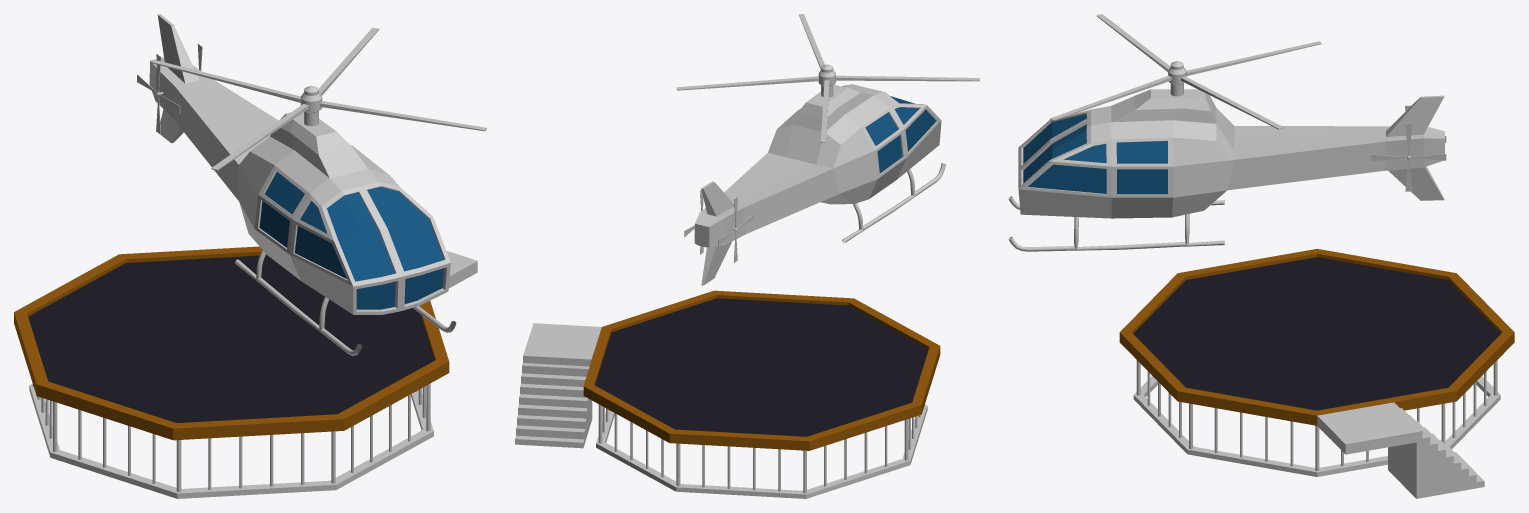
File: copter_000017.obj
3 views of the same model, side by side, from view 1: azimuth 30°, elevation 25°; view 2: azimuth 150°, elevation 25°; view 3: azimuth 270°, elevation 25° (orthographic). The views are drawn at different scales.
Parts seen in each view (by area): view 1: Cylinder.001_Cylinder.012, Helicopter.007_Cylinder.008, Helicopter.001_Cylinder.001, Cylinder.004, Cylinder.003_Cylinder.005, Cylinder.002; view 2: Cylinder.001_Cylinder.012, Helicopter.007_Cylinder.008, Helicopter.001_Cylinder.001, Cylinder.004, Cylinder.003_Cylinder.005, Cylinder.002; view 3: Cylinder.001_Cylinder.012, Helicopter.007_Cylinder.008, Helicopter.001_Cylinder.001, Cylinder.004, Cylinder.002, Cylinder.003_Cylinder.005, Helicopter.003_Cylinder.004.
Part boxes in pixels (box(x1,y1,x2,y2)): Cylinder.001_Cylinder.012: box(14, 246, 477, 498); Helicopter.007_Cylinder.008: box(149, 14, 456, 355); Helicopter.001_Cylinder.001: box(151, 27, 486, 170); Cylinder.004: box(208, 394, 410, 490); Cylinder.003_Cylinder.005: box(37, 386, 425, 483); Cylinder.002: box(32, 383, 430, 492); Cylinder.001_Cylinder.012: box(515, 290, 940, 498); Helicopter.007_Cylinder.008: box(694, 84, 945, 285); Helicopter.001_Cylinder.001: box(676, 14, 979, 142); Cylinder.004: box(614, 413, 780, 491); Cylinder.003_Cylinder.005: box(602, 406, 920, 486); Cylinder.002: box(598, 404, 924, 493); Cylinder.001_Cylinder.012: box(1119, 248, 1514, 498); Helicopter.007_Cylinder.008: box(1008, 89, 1444, 251); Helicopter.001_Cylinder.001: box(1050, 14, 1321, 129); Cylinder.004: box(1147, 371, 1486, 437); Cylinder.002: box(1136, 360, 1497, 470); Cylinder.003_Cylinder.005: box(1214, 408, 1419, 466); Helicopter.003_Cylinder.004: box(1371, 123, 1446, 191).
Size of the model in its own units: 7.94 by 6.39 by 8.68.
